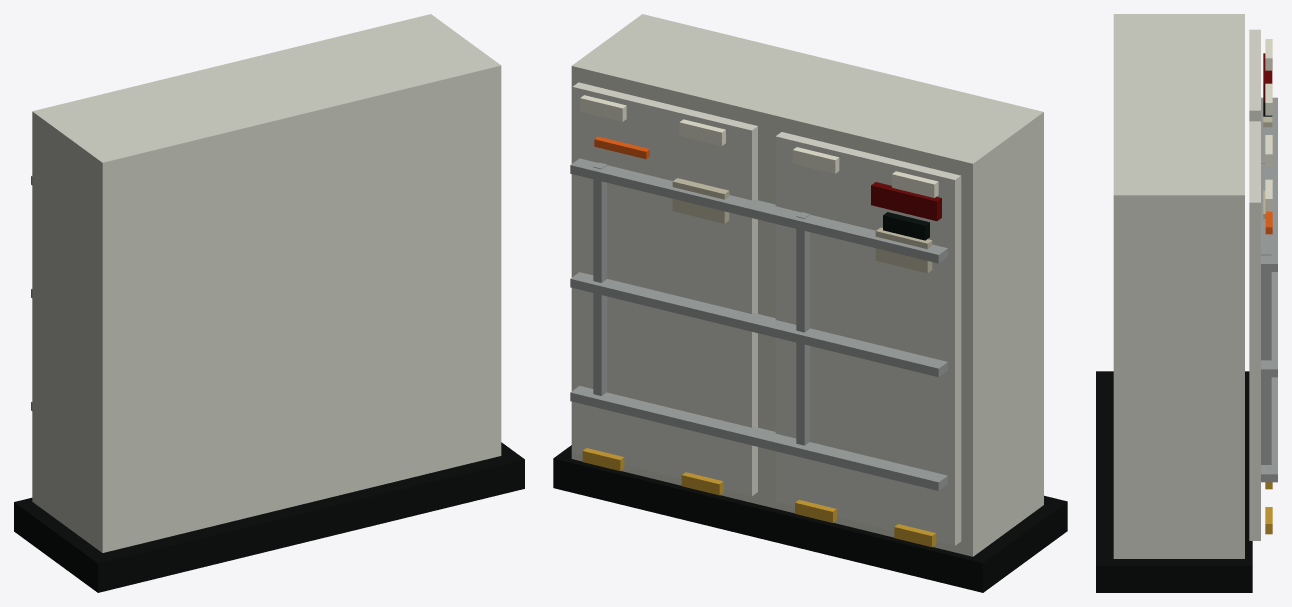
File: ambulance_medical_cabinet.obj
3 views of the same model, side by side, from view 1: azimuth 30°, elevation 25°; view 2: azimuth 150°, elevation 25°; view 3: azimuth 270°, elevation 25° (orthographic). The views are drawn at different scales.
Visible parts, largest first — view 1: ambulance_medical_cabinet; view 2: ambulance_medical_cabinet; view 3: ambulance_medical_cabinet.
Part boxes in pixels (x1=…): ambulance_medical_cabinet: x1=14, y1=14, x2=524, y2=592; ambulance_medical_cabinet: x1=553, y1=14, x2=1067, y2=592; ambulance_medical_cabinet: x1=1096, y1=14, x2=1277, y2=592.
Size of the model in its own units: 1.82 by 1.71 by 0.72.
